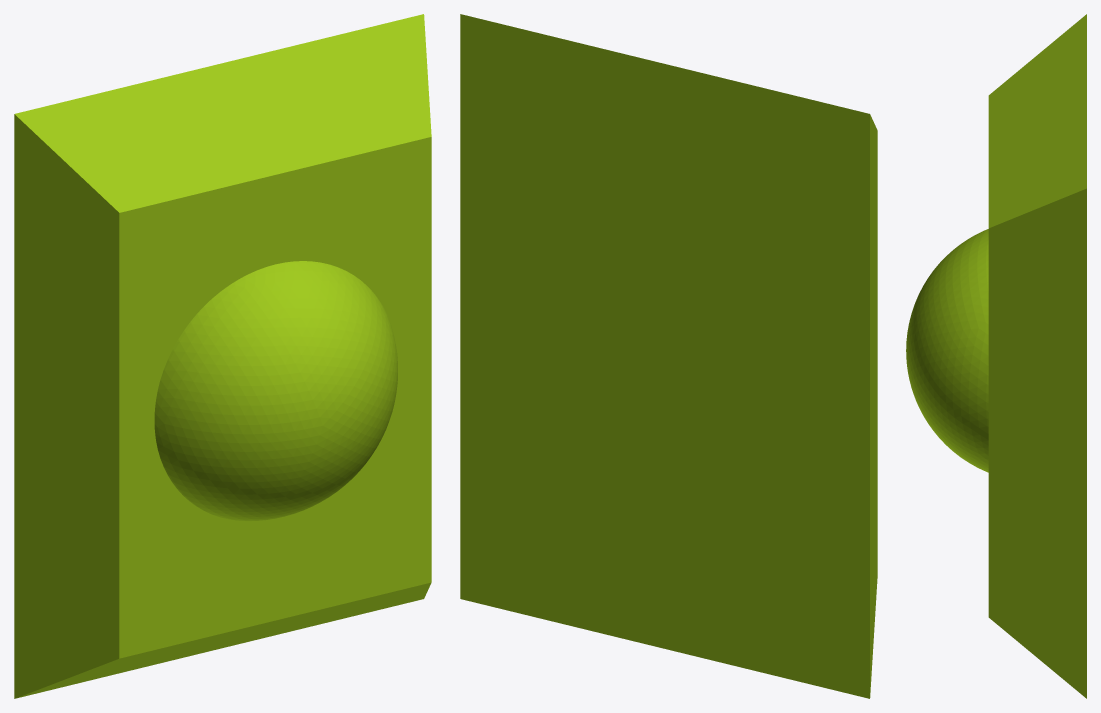
Rendered from turret.obj.
3 renders of one model, left to right at view 1: azimuth 30°, elevation 25°; view 2: azimuth 150°, elevation 25°; view 3: azimuth 270°, elevation 25°, orthographic. The views are drawn at different scales.
Parts seen in each view (by area): view 1: Object.1, Object.2; view 2: Object.1; view 3: Object.1, Object.2.
Boxes of the visible parts, box(x1,y1,x2,y2) form: Object.1: box(14, 14, 431, 698); Object.2: box(154, 261, 397, 521); Object.1: box(460, 14, 877, 698); Object.1: box(988, 14, 1086, 698); Object.2: box(906, 229, 988, 472).
Bounding box in the file's own units: 10.24 × 13.97 × 4.48.
